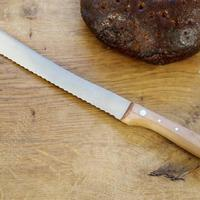knife: (1, 28, 196, 158)
